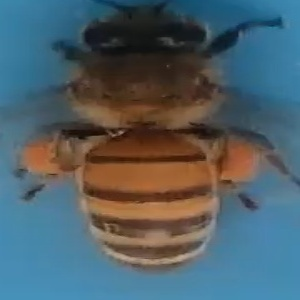bee: (22, 4, 288, 273)
